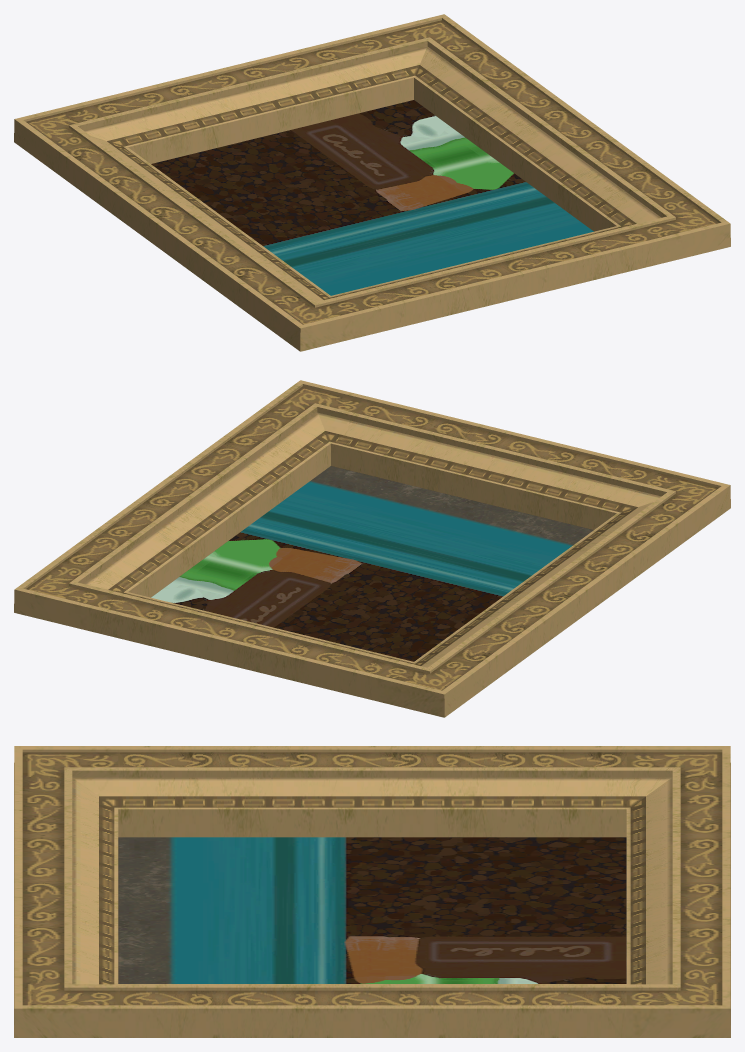
File: art27.fbx
The picture shows the model from 3 angles, top to bottom: view 1: azimuth 30°, elevation 25°; view 2: azimuth 150°, elevation 25°; view 3: azimuth 270°, elevation 25°; orthographic projection. The views are drawn at different scales.
Visible parts, largest first — view 1: FrameGold0_low__mFrameGold0, Slower__mBody; view 2: FrameGold0_low__mFrameGold0, Slower__mBody; view 3: FrameGold0_low__mFrameGold0, Slower__mBody.
Boxes of the visible parts, left/top/right/bottom form: FrameGold0_low__mFrameGold0: left=14, top=14, right=730, bottom=351; Slower__mBody: left=151, top=100, right=593, bottom=295; FrameGold0_low__mFrameGold0: left=14, top=380, right=730, bottom=717; Slower__mBody: left=151, top=466, right=593, bottom=661; FrameGold0_low__mFrameGold0: left=14, top=746, right=730, bottom=1037; Slower__mBody: left=118, top=837, right=626, bottom=983.
Size of the model in its own units: 472 by 49.86 by 544.
